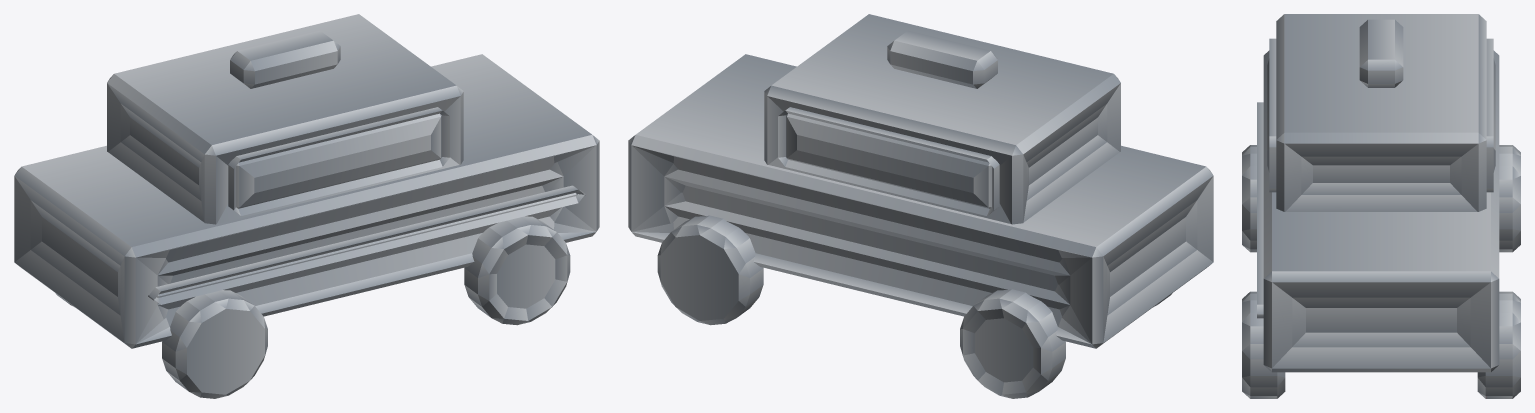
Rendered from dt_taxi.fbx.
The picture shows the model from 3 angles, left to right: view 1: azimuth 30°, elevation 25°; view 2: azimuth 150°, elevation 25°; view 3: azimuth 270°, elevation 25°; orthographic projection.
Parts seen in each view (by area): view 1: dt_taxi; view 2: dt_taxi; view 3: dt_taxi.
Boxes of the visible parts, x1,y1,x2,y2 form: dt_taxi: (14, 14, 599, 398); dt_taxi: (628, 14, 1213, 398); dt_taxi: (1242, 14, 1520, 398).
Size of the model in its own units: 1400 by 765 by 716.
